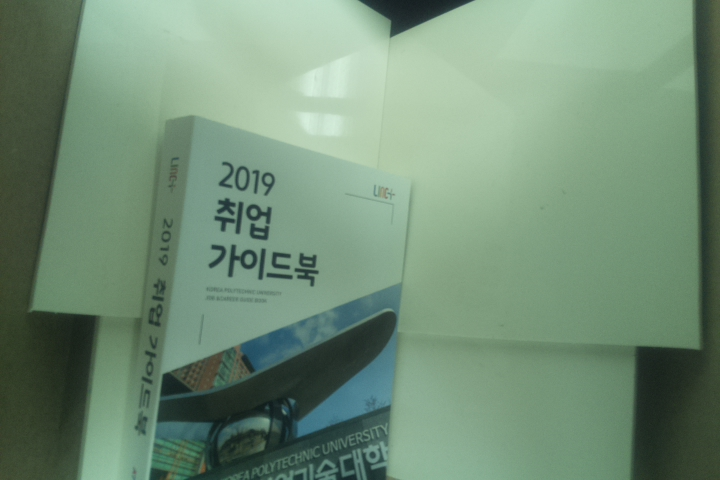book: (111, 112, 425, 480)
